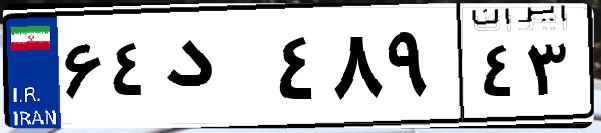3: (525, 38, 570, 115)
4: (270, 28, 330, 110), (475, 38, 525, 113), (110, 28, 158, 98)
6: (57, 26, 110, 100)
8: (330, 28, 385, 110)
9: (385, 28, 445, 110)
د: (158, 20, 270, 120)
